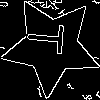T: (26, 21, 74, 56)
